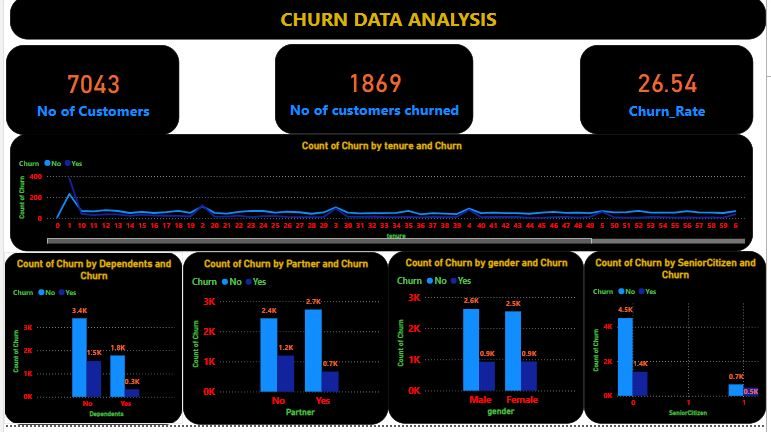

This screenshot's page, from the dashboard's own definition file:
{"tool":"powerbi","page":{"name":"Page 1","canvas":[1280,720],"ordinal":0},"visuals":[{"type":"textbox","box":[10.2,0,1269.8,73],"z":0},{"type":"card","fields":{"Values":["Count(Cutomer_churn_analysis.Customer ID)"]},"box":[3.4,82.3,290.6,151.2],"z":1000},{"type":"card","fields":{"Values":["CountNonNull(Cutomer_churn_analysis.Churn)"]},"box":[455.2,80.6,332.6,151.2],"z":2000},{"type":"card","fields":{"Values":["Cutomer_churn_analysis.Churn_Rate"]},"box":[967.6,82.3,290.6,149.5],"z":3000},{"type":"clusteredColumnChart","fields":{"Category":["Cutomer_churn_analysis.Dependents"],"Y":["CountNonNull(Cutomer_churn_analysis.Churn)"],"Series":["Cutomer_churn_analysis.Churn"]},"box":[0,429.5,300.5,290.3],"z":4000},{"type":"clusteredColumnChart","fields":{"Category":["Cutomer_churn_analysis.gender"],"Y":["CountNonNull(Cutomer_churn_analysis.Churn)"],"Series":["Cutomer_churn_analysis.Churn"]},"box":[645.1,427.8,329.3,290.3],"z":5000},{"type":"clusteredColumnChart","fields":{"Y":["CountNonNull(Cutomer_churn_analysis.Churn)"],"Series":["Cutomer_churn_analysis.Churn"],"Category":["Cutomer_churn_analysis.Partner"]},"box":[300.5,429.5,344.6,290.3],"z":6000},{"type":"lineChart","fields":{"Category":["Cutomer_churn_analysis.tenure"],"Y":["CountNonNull(Cutomer_churn_analysis.Churn)"],"Series":["Cutomer_churn_analysis.Churn"]},"box":[10.2,232.6,1247.7,196.9],"z":7000},{"type":"clusteredColumnChart","fields":{"Y":["CountNonNull(Cutomer_churn_analysis.Churn)"],"Series":["Cutomer_churn_analysis.Churn"],"Category":["Cutomer_churn_analysis.SeniorCitizen"]},"box":[974.4,427.8,305.6,290.3],"z":8000}]}

Visuals, with their boxes in screenshot pixels (x1, y1, x2, y2), scaled from the page's 1280x720 canvas onto the 771x432 screenshot:
textbox: bbox(6, 0, 770, 44)
card - Count(Cutomer_churn_analysis.Customer ID): bbox(2, 49, 177, 140)
card - CountNonNull(Cutomer_churn_analysis.Churn): bbox(274, 48, 475, 139)
card - Cutomer_churn_analysis.Churn_Rate: bbox(583, 49, 758, 139)
clusteredColumnChart - Cutomer_churn_analysis.Dependents x CountNonNull(Cutomer_churn_analysis.Churn): bbox(0, 258, 181, 431)
clusteredColumnChart - Cutomer_churn_analysis.gender x CountNonNull(Cutomer_churn_analysis.Churn): bbox(389, 257, 587, 431)
clusteredColumnChart - CountNonNull(Cutomer_churn_analysis.Churn) x Cutomer_churn_analysis.Churn: bbox(181, 258, 389, 431)
lineChart - Cutomer_churn_analysis.tenure x CountNonNull(Cutomer_churn_analysis.Churn): bbox(6, 140, 758, 258)
clusteredColumnChart - CountNonNull(Cutomer_churn_analysis.Churn) x Cutomer_churn_analysis.Churn: bbox(587, 257, 770, 431)
